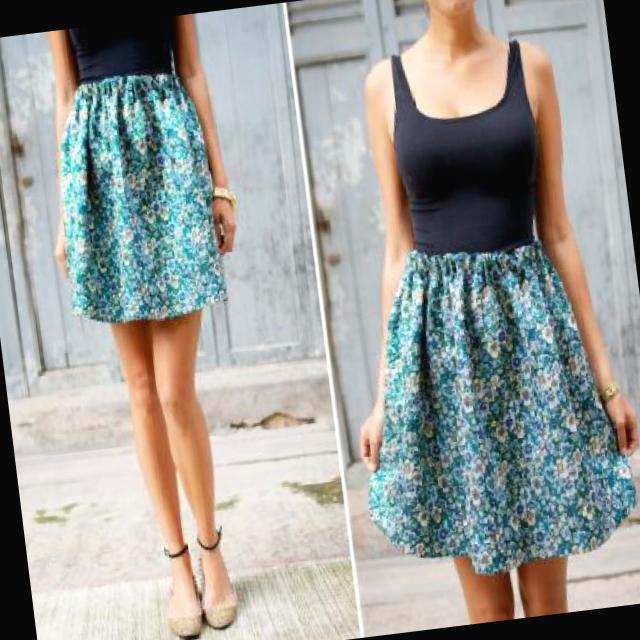Person: (290, 0, 640, 634), (24, 10, 290, 640)
